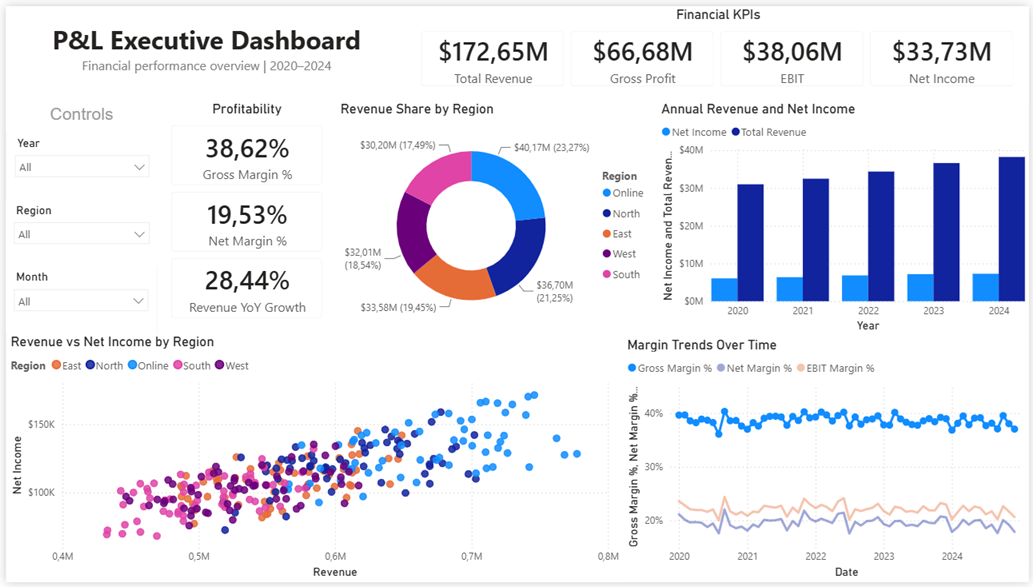

Layout of this report page (visuals, bound fields, positions):
{"tool":"powerbi","page":{"name":"Page 1","canvas":[1280,720],"ordinal":0},"visuals":[{"type":"scatterChart","title":"Revenue vs Net Income by Region","fields":{"X":["pnl_powerbi_import_ready_v2.Revenue"],"Y":["pnl_powerbi_import_ready_v2.Net Income"],"Series":["pnl_powerbi_import_ready_v2.Region"]},"box":[1.2,408.8,771.2,311.2],"z":0},{"type":"clusteredColumnChart","title":"Annual Revenue and Net Income","fields":{"Category":["pnl_powerbi_import_ready_v2.Year"],"Y":["pnl_powerbi_import_ready_v2.Net Income","pnl_powerbi_import_ready_v2.Total Revenue"]},"box":[815,117.5,465,295],"z":1000},{"type":"lineChart","title":"Margin Trends Over Time","fields":{"Category":["pnl_powerbi_import_ready_v2.Date"],"Y":["pnl_powerbi_import_ready_v2.Gross Margin %","pnl_powerbi_import_ready_v2.Net Margin %","pnl_powerbi_import_ready_v2.EBITDA Margin %"]},"box":[772.5,412.5,507.5,307.5],"z":2000},{"type":"donutChart","title":"Revenue Share by Region","fields":{"Category":["pnl_powerbi_import_ready_v2.Region"],"Y":["pnl_powerbi_import_ready_v2.Total Revenue"]},"box":[413.8,117.5,401.2,295],"z":3000},{"type":"slicer","fields":{"Values":["pnl_powerbi_import_ready_v2.Year"]},"box":[1.2,157.5,188.8,83.8],"z":4000},{"type":"slicer","fields":{"Values":["pnl_powerbi_import_ready_v2.Region"]},"box":[0,241.2,190,83.8],"z":5000},{"type":"slicer","fields":{"Values":["pnl_powerbi_import_ready_v2.MonthName"]},"box":[0,325,188.8,83.8],"z":6000},{"type":"cardVisual","title":"Financial KPIs","fields":{"Data":["pnl_powerbi_import_ready_v2.Total Revenue","pnl_powerbi_import_ready_v2.Gross Profit","Sum(pnl_powerbi_import_ready_v2.EBIT)","pnl_powerbi_import_ready_v2.Net Income"]},"box":[502.5,0,777.5,117.5],"z":7000},{"type":"textbox","box":[0,0,502.5,117.5],"z":8000},{"type":"cardVisual","title":"Profitability","fields":{"Data":["pnl_powerbi_import_ready_v2.Gross Margin %","pnl_powerbi_import_ready_v2.Net Margin %","pnl_powerbi_import_ready_v2.Revenue YoY %"]},"box":[190,117.5,223.8,291.2],"z":9000},{"type":"textbox","box":[0,117.5,190,40],"z":10000}]}

Visuals, with their boxes in screenshot pixels (x1, y1, x2, y2), scaled from the page's 1280x720 canvas onto the 1033x587 screenshot:
"Revenue vs Net Income by Region" scatterChart: <region>1, 333, 623, 586</region>
"Annual Revenue and Net Income" clusteredColumnChart: <region>658, 96, 1032, 336</region>
"Margin Trends Over Time" lineChart: <region>623, 336, 1032, 586</region>
"Revenue Share by Region" donutChart: <region>334, 96, 658, 336</region>
slicer - pnl_powerbi_import_ready_v2.Year: <region>1, 128, 153, 197</region>
slicer - pnl_powerbi_import_ready_v2.Region: <region>0, 197, 153, 265</region>
slicer - pnl_powerbi_import_ready_v2.MonthName: <region>0, 265, 152, 333</region>
"Financial KPIs" cardVisual: <region>406, 0, 1032, 96</region>
textbox: <region>0, 0, 406, 96</region>
"Profitability" cardVisual: <region>153, 96, 334, 333</region>
textbox: <region>0, 96, 153, 128</region>
